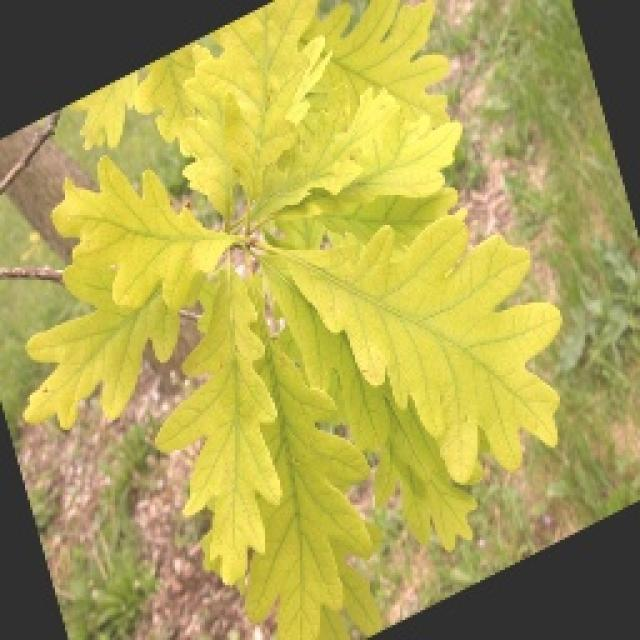Chlorosis: (11, 41, 602, 598)
